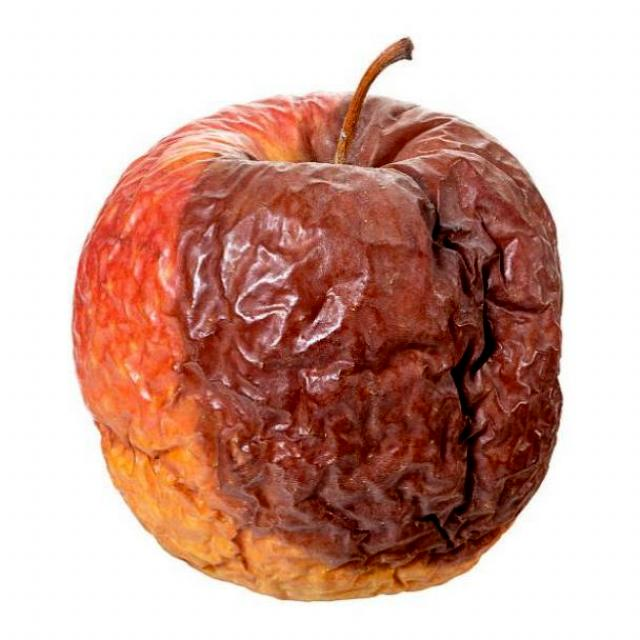ROT: (51, 60, 592, 612)
